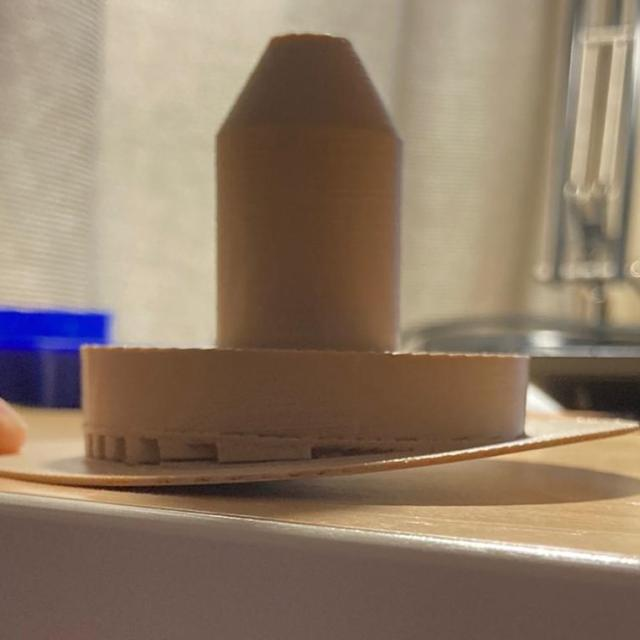warping: (390, 424, 551, 476)
